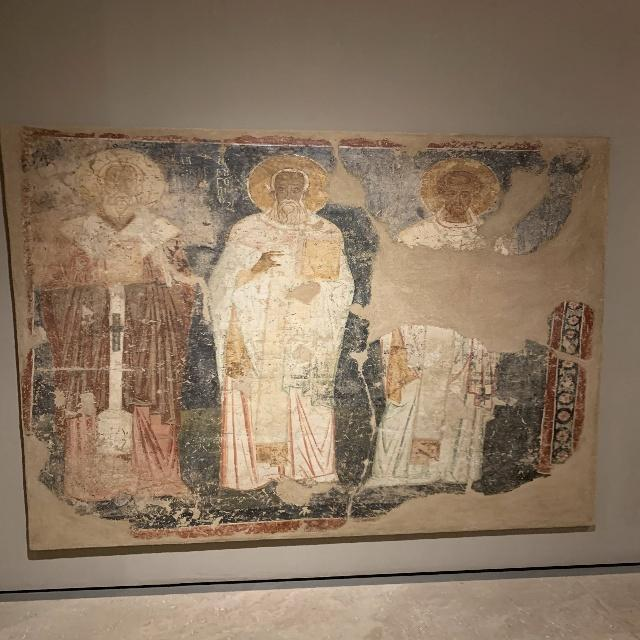book: (298, 233, 341, 281), (129, 217, 178, 257)
church fathers: (36, 144, 578, 519)
